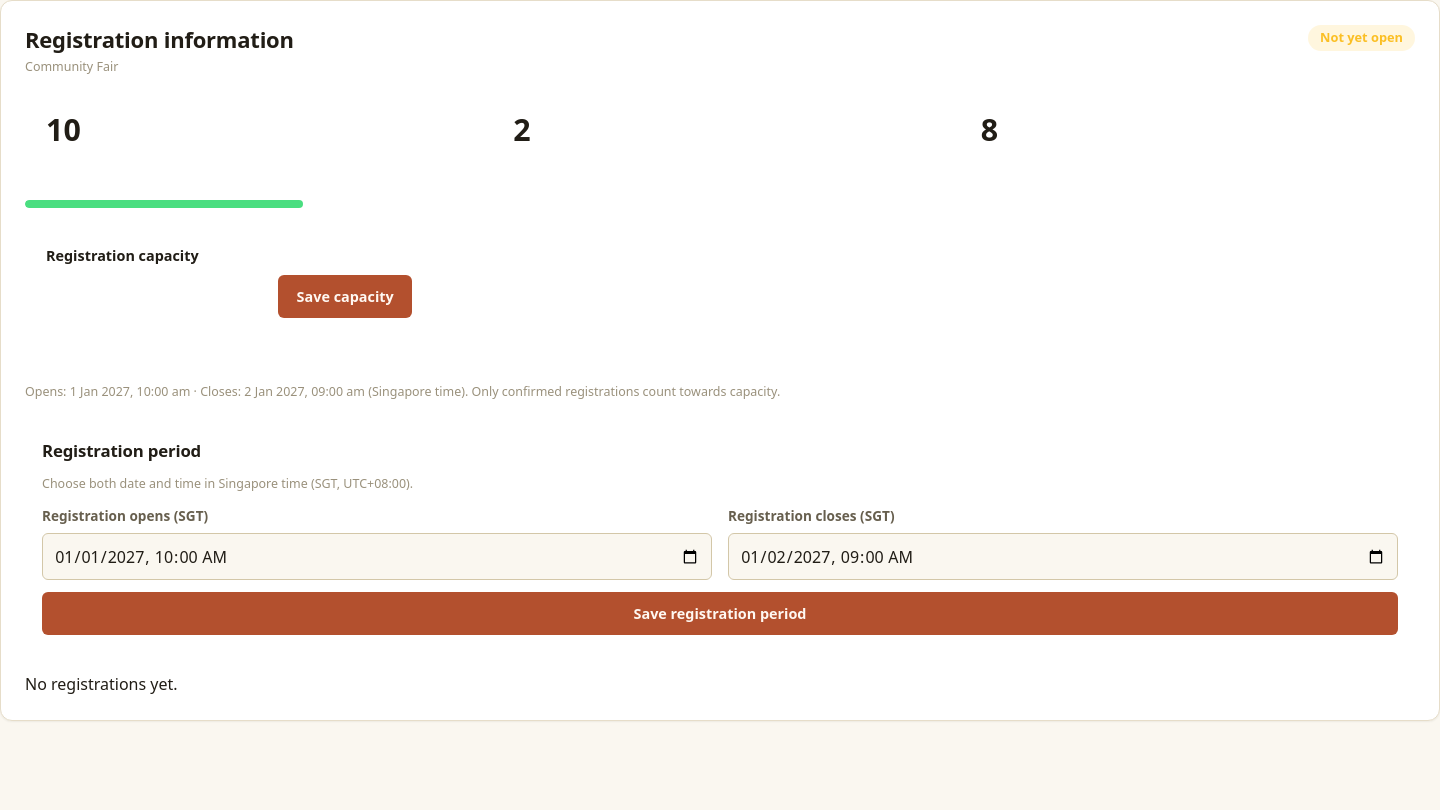
Scenario: EO12 organiser registration period › EO12 AC3, AC15 (negative): refuses an equal opening and closing time without sending a save
Replace the text in the field labelled "Registration closes (SGT)" with "2027-01-01T10:00". click: (1063, 556)
box: [728, 533, 1398, 580]
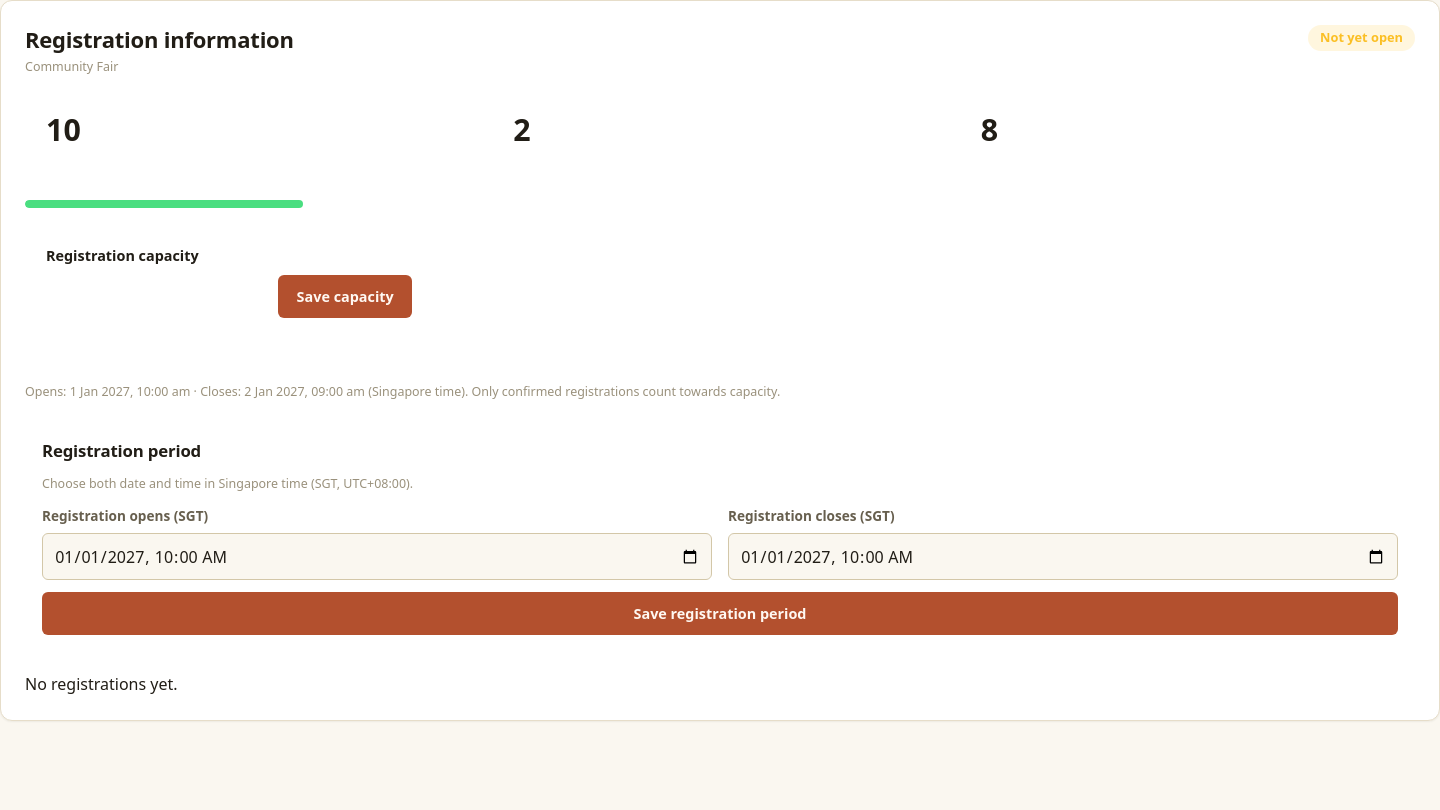
Click the button "Save registration period". click: (720, 614)
box: [42, 592, 1398, 635]
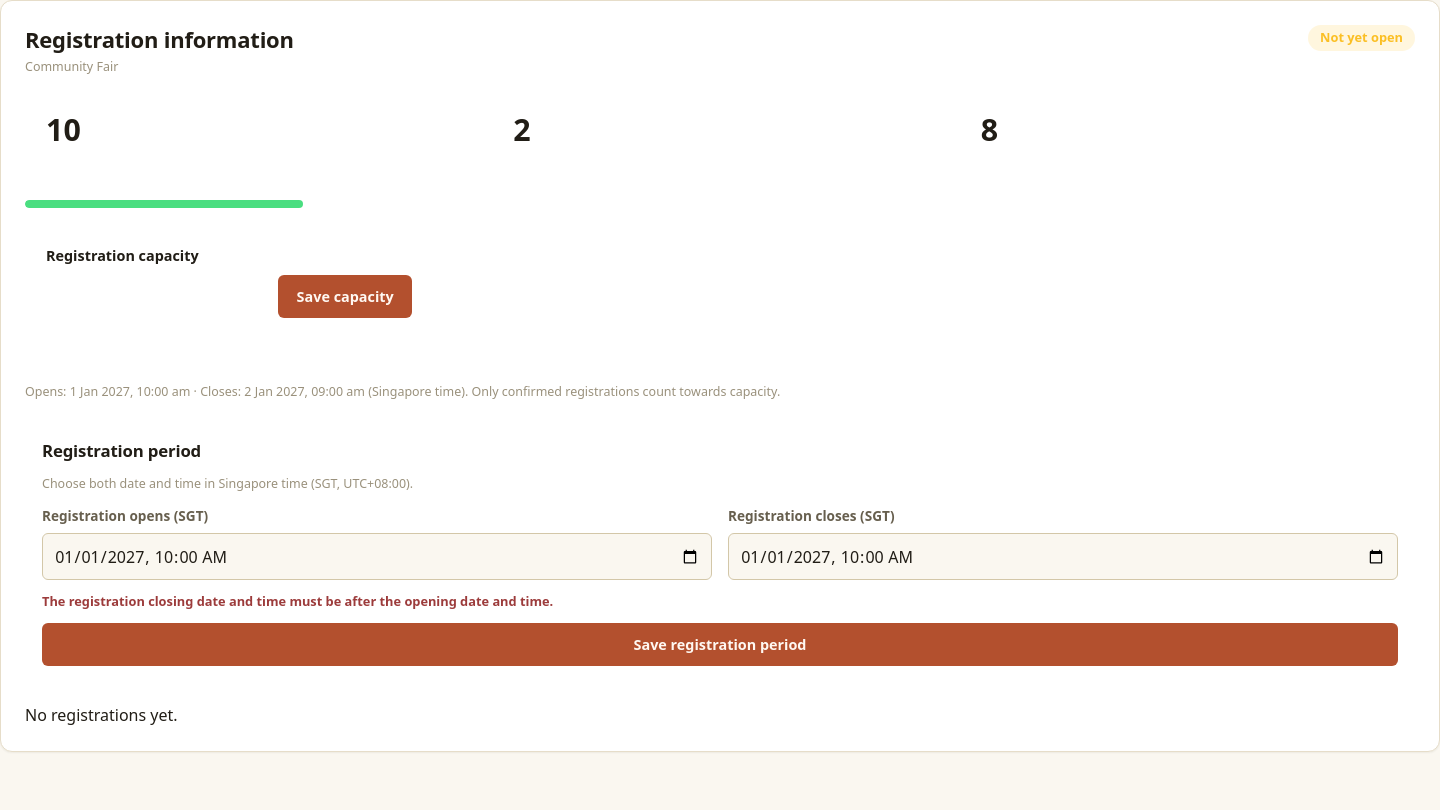
Check: the field labelled "Registration opens (SGT)" holds "2027-01-01T10:00", box [42, 533, 712, 580]
Check: the message reads "The registration closing date and time must be after the opening date and time.", box [42, 592, 553, 610]
